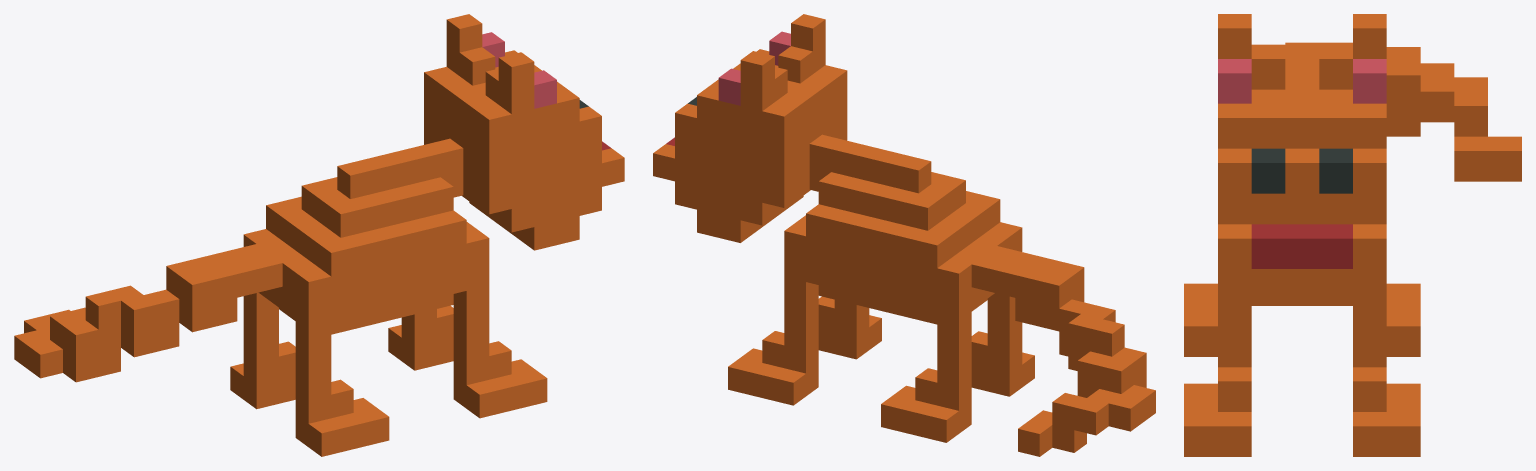
The model's file is CAT.glb.
3 renders of one model, left to right at view 1: azimuth 30°, elevation 25°; view 2: azimuth 150°, elevation 25°; view 3: azimuth 270°, elevation 25°, orthographic. The views are drawn at different scales.
Parts seen in each view (by area): view 1: Mesh_0; view 2: Mesh_0; view 3: Mesh_0.
Boxes of the visible parts, left/top/right/bottom form: Mesh_0: left=14, top=14, right=624, bottom=456; Mesh_0: left=653, top=14, right=1155, bottom=456; Mesh_0: left=1184, top=14, right=1521, bottom=456.
Bounding box in the file's own units: 2.3 × 1.4 × 1.
Materials: 1 (1 with a texture image).
